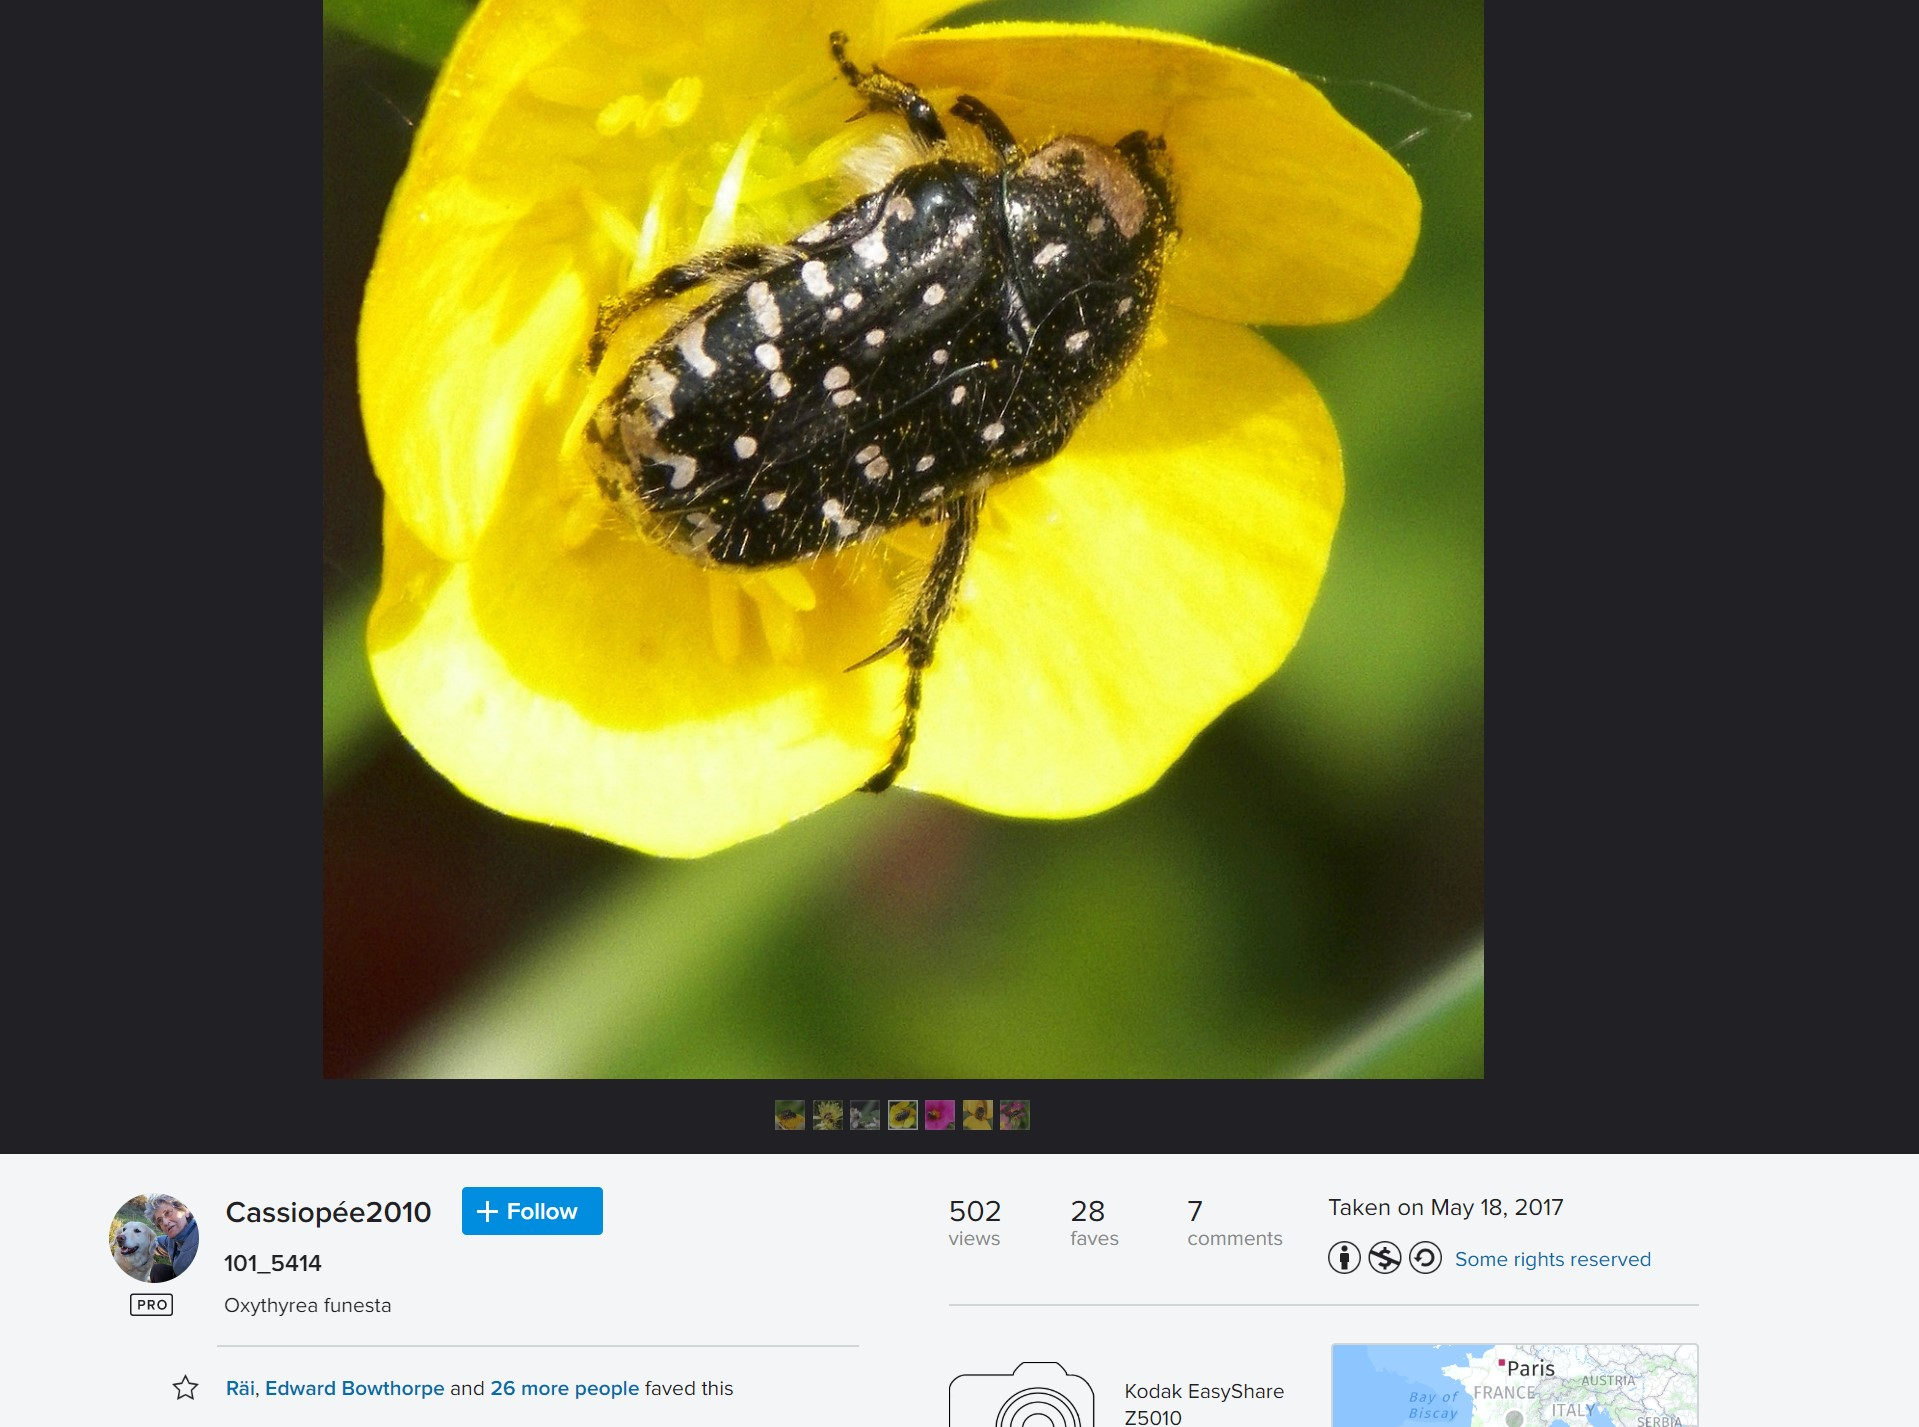Oxythyrea_funesta: (564, 12, 1228, 823)
